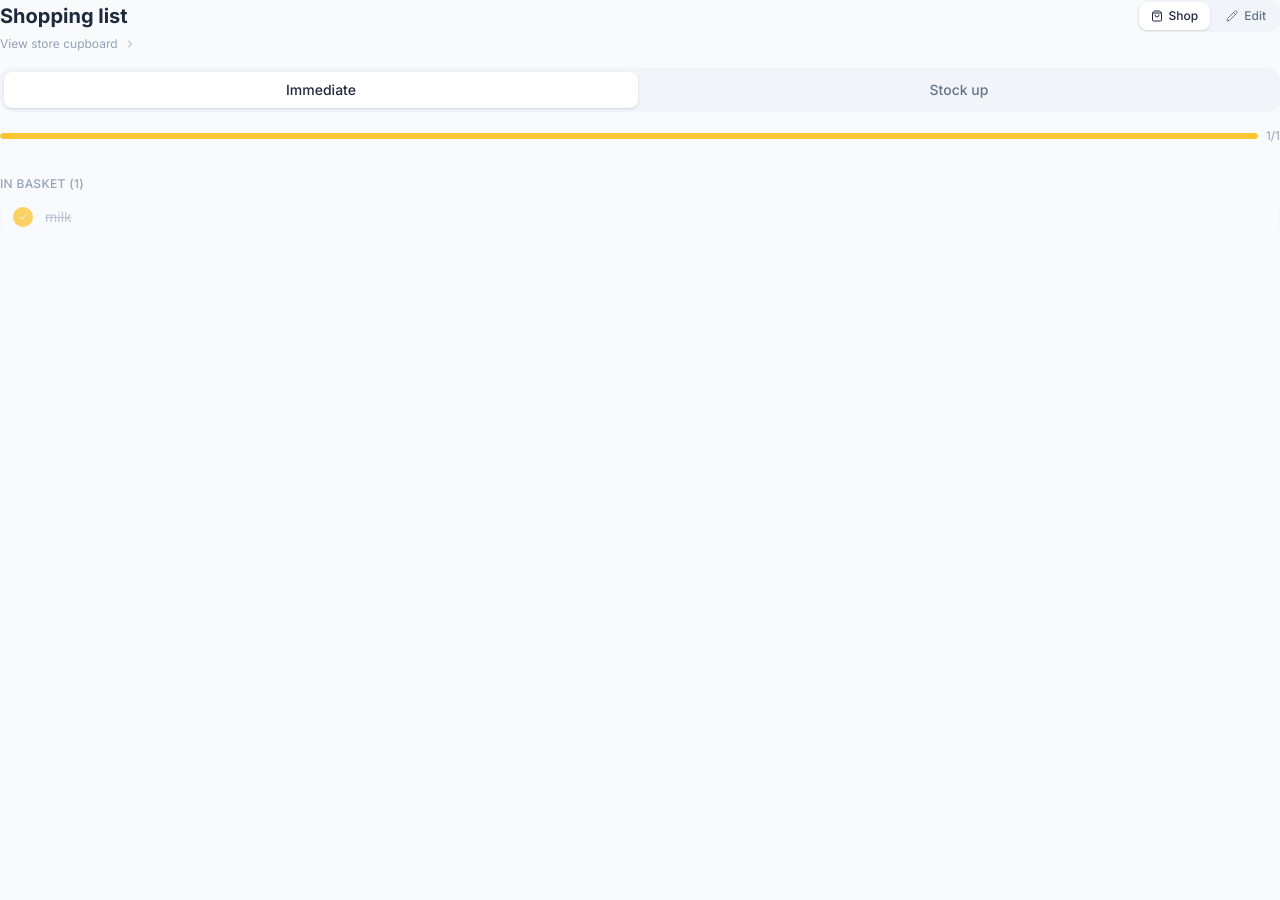
ShoppingListPage — item sheet in edit mode › moves an item to Stock up, confirms where it went, and the toast undo puts it back ticked
Click the button "Edit".
click(1246, 16)  # box [1214, 2, 1278, 30]
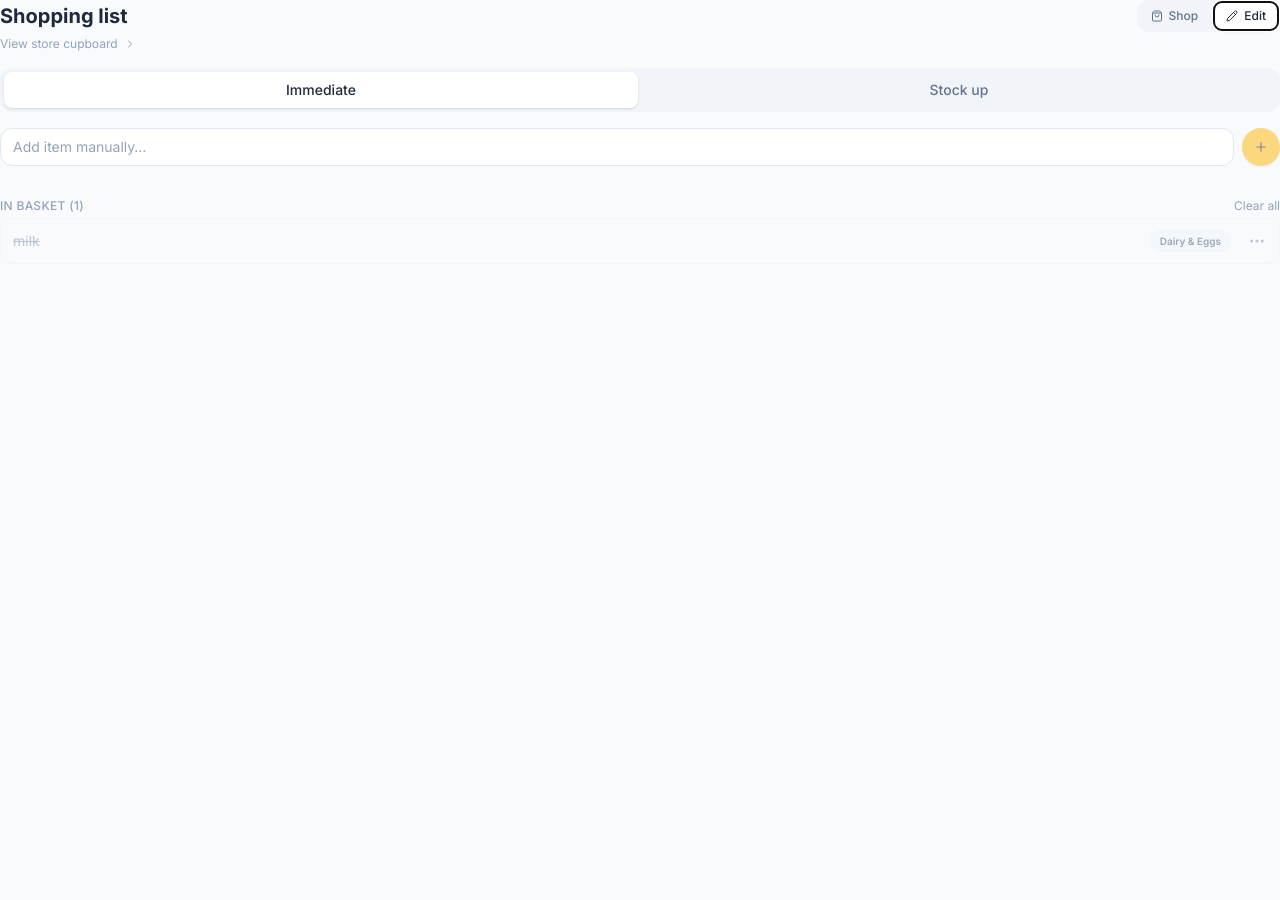
Click the button "milk Dairy & Eggs".
click(1190, 241)  # box [13, 219, 1279, 263]
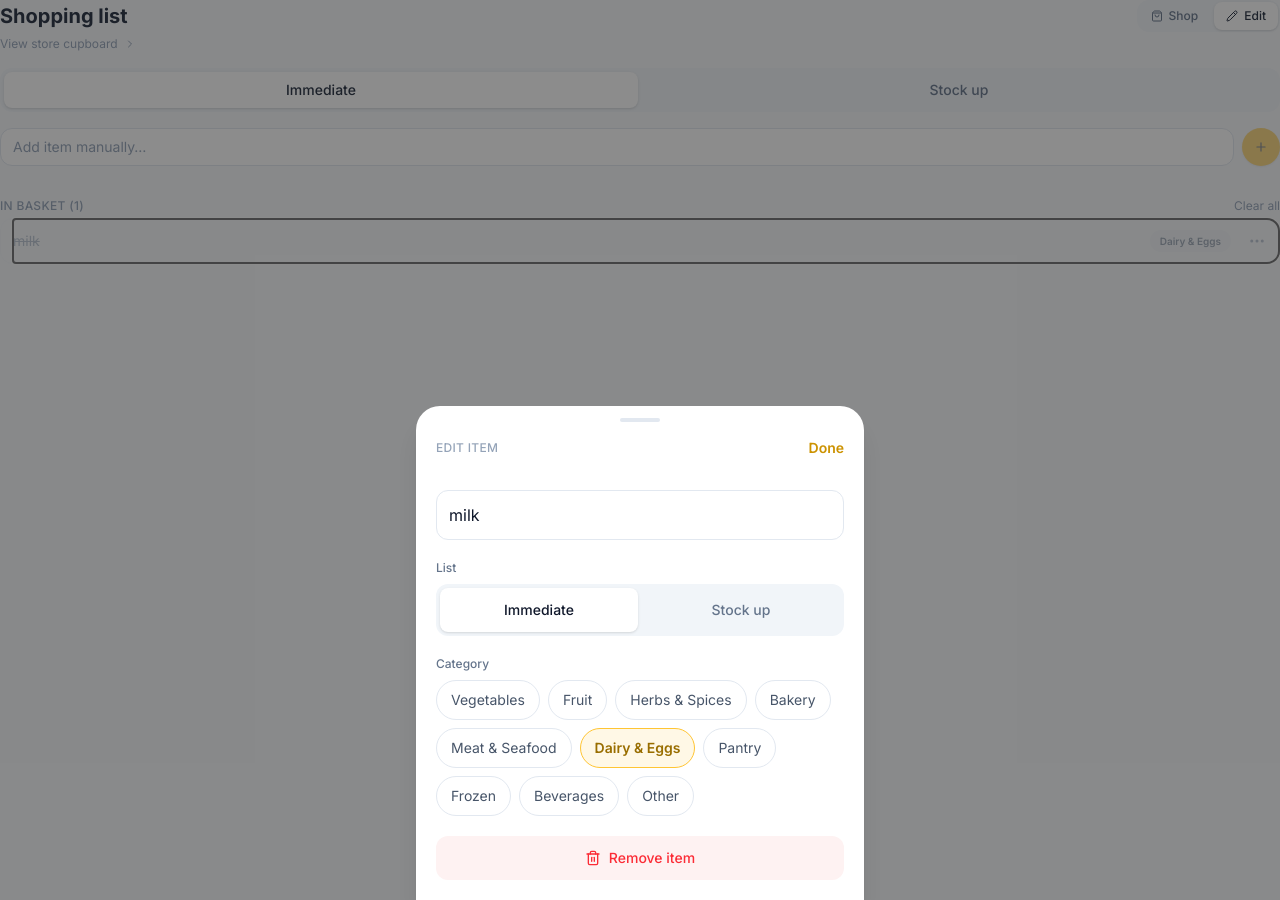
Click the button "Stock up".
click(741, 610)  # box [642, 588, 840, 632]
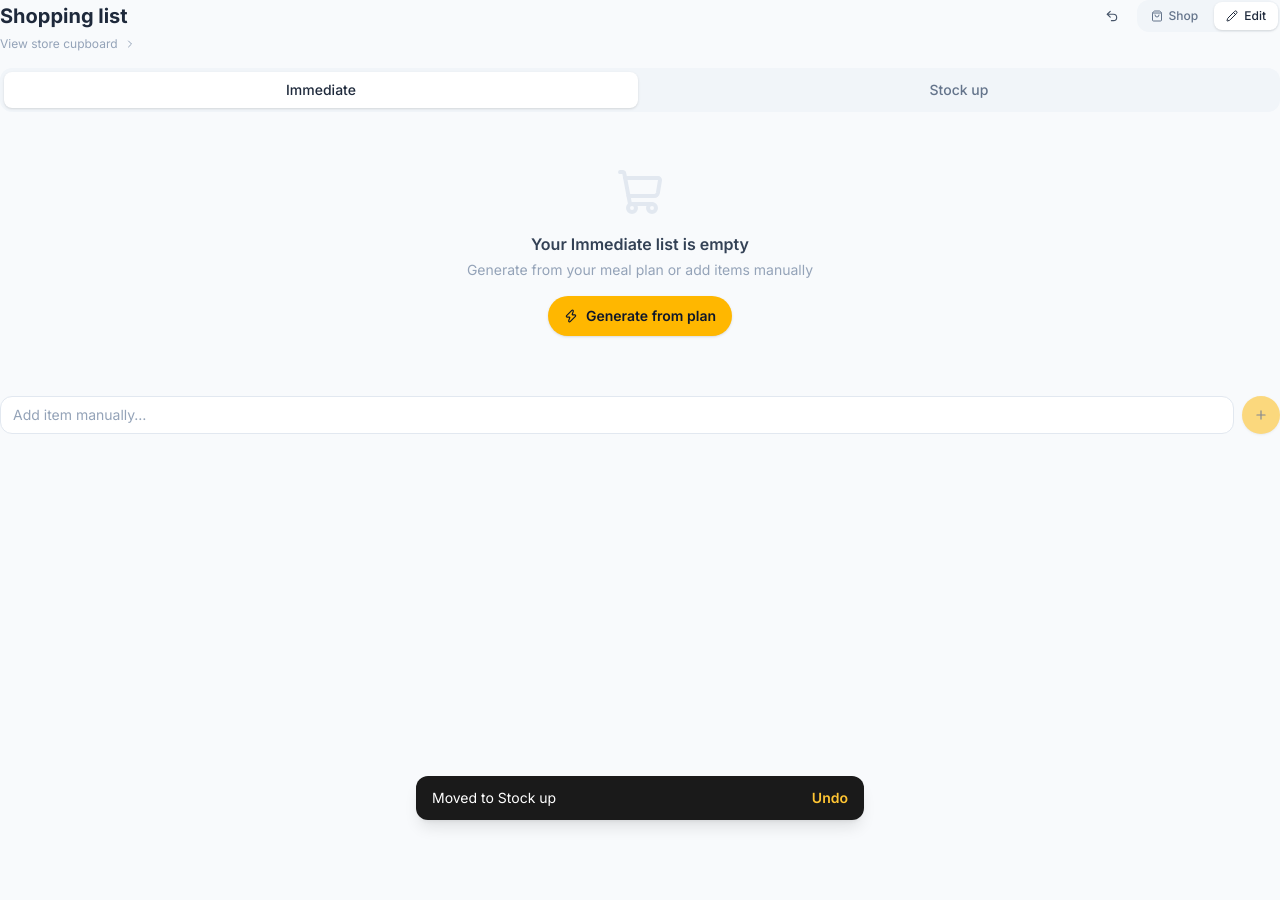
expect the dialog is gone: met
expect the button "milk" is gone: met
expect the message shows "Moved to Stock up": met, box [432, 789, 556, 806]
Click the button "Undo".
click(830, 798)  # box [800, 776, 860, 820]
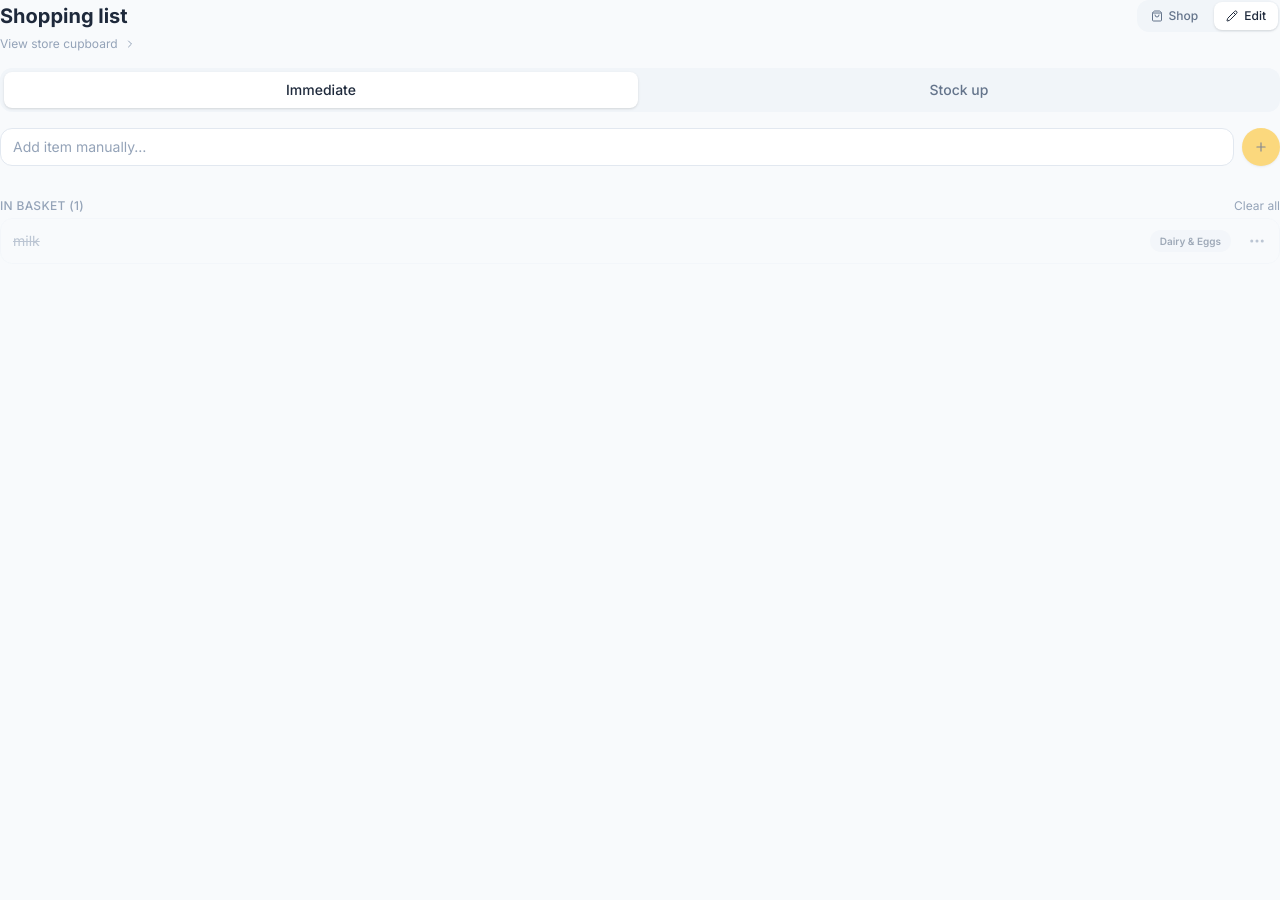
expect the message "Moved to Stock up Undo" is gone: met
